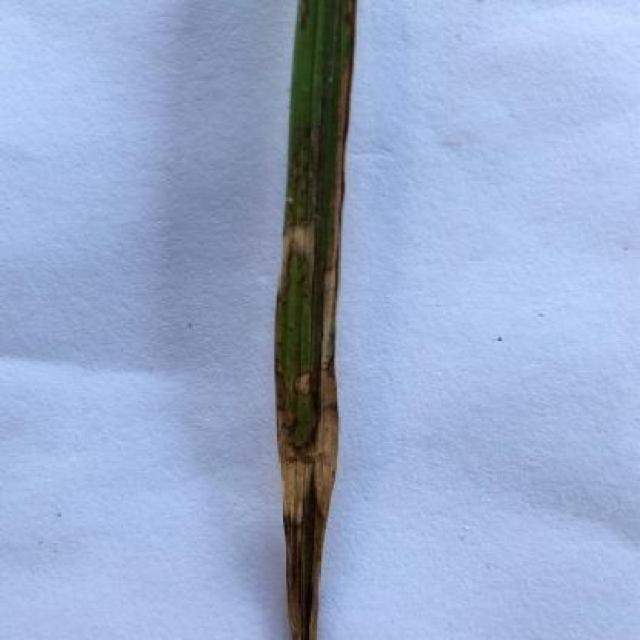Brown_Spot: (267, 0, 367, 640)
